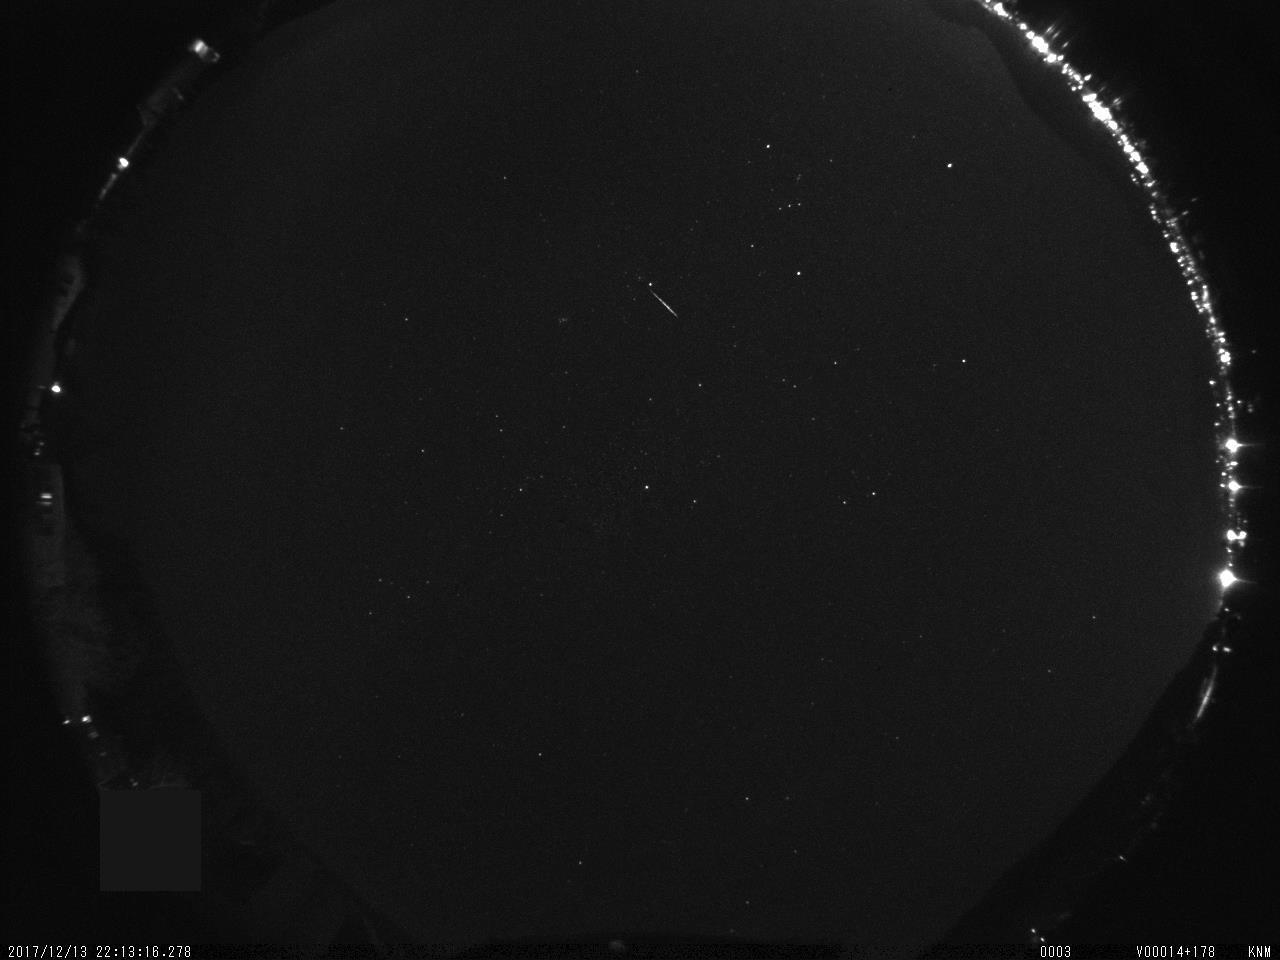Meteor: (648, 286, 680, 316)
